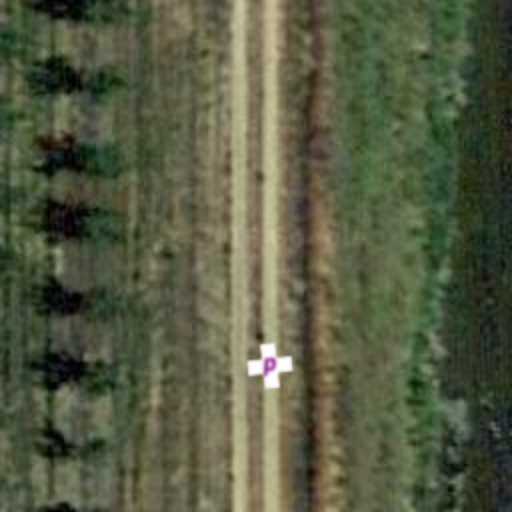cross: (244, 340, 296, 392)
